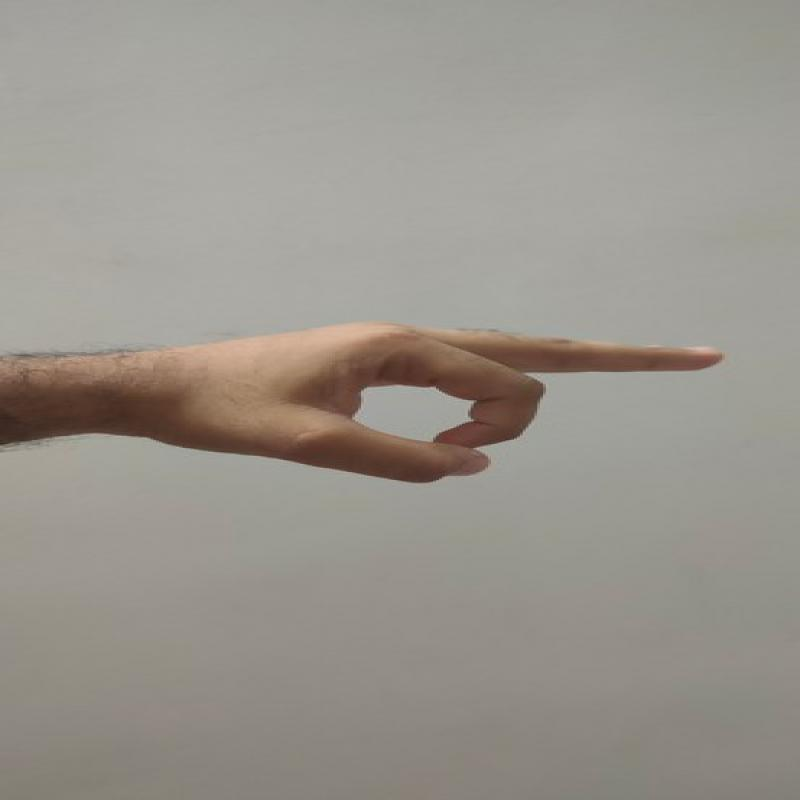Mudraakhyam: (109, 300, 742, 495)
